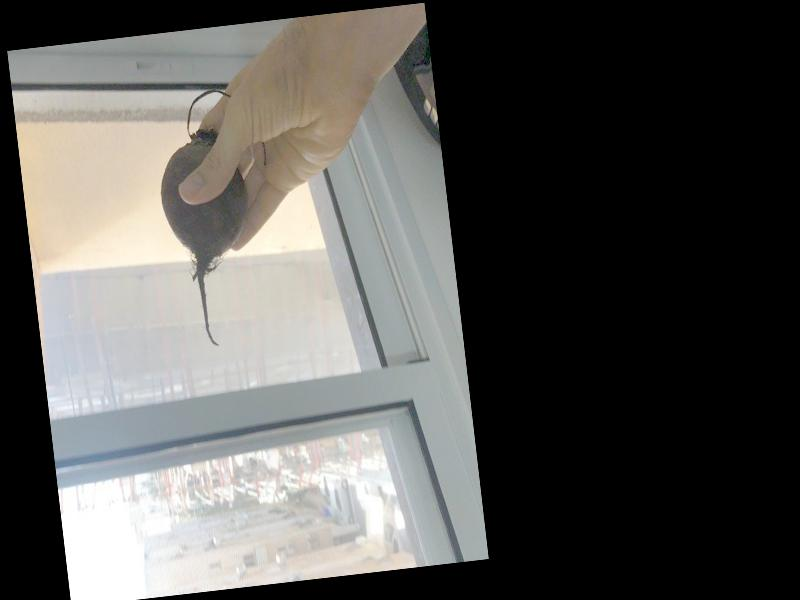Beet: (149, 84, 288, 351)
